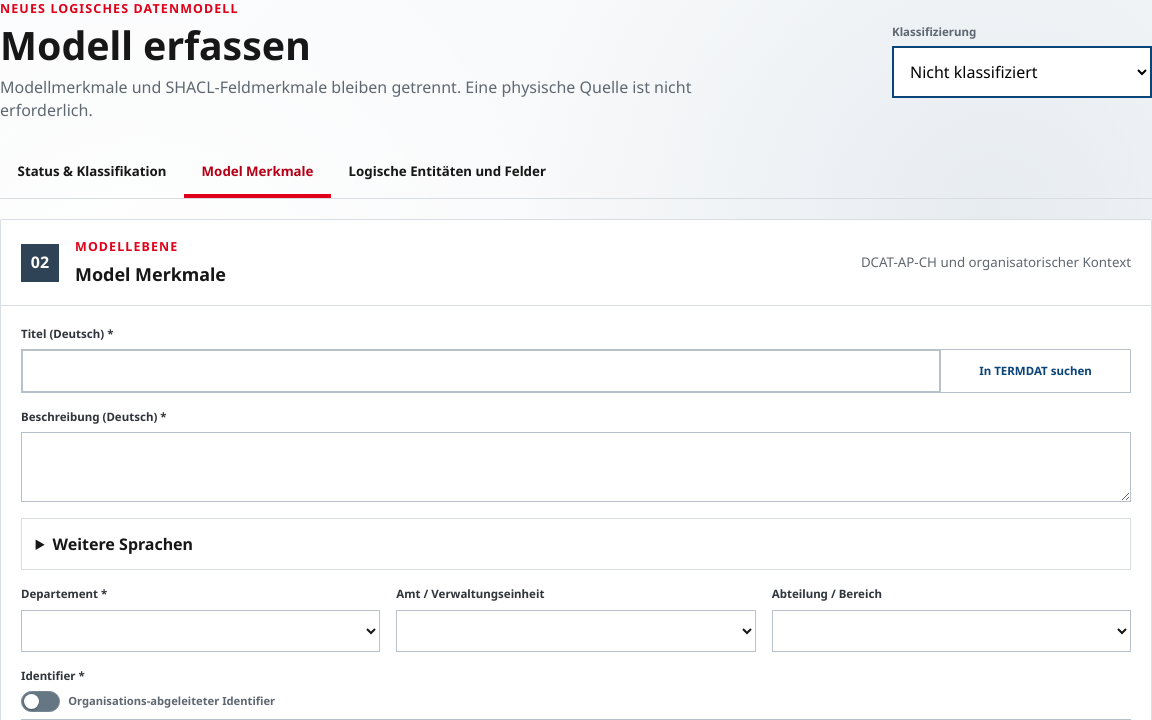
Scenario: LogicalModelEditorComponent contracts › searches TERMDAT on title blur and exposes a prominent hit action
Type "panzer" into the field named "titleDe" at (481, 371), box x1=22 y1=350 x2=940 y2=392
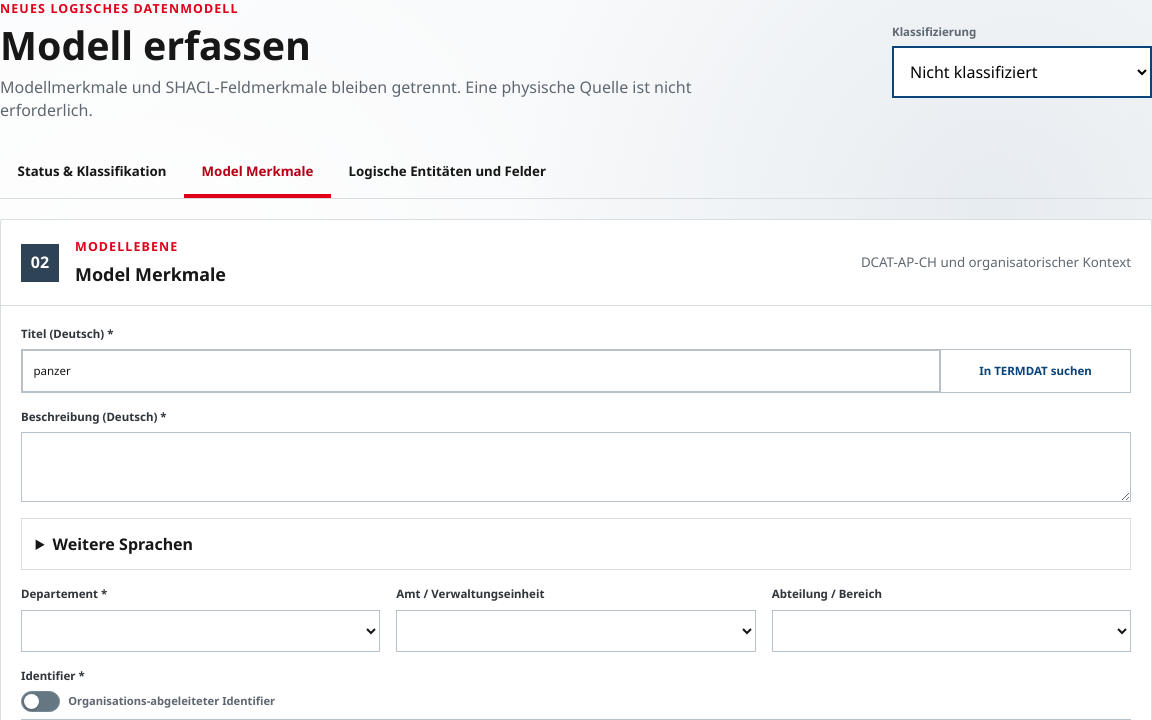
Leave the field named "titleDe", box x1=22 y1=350 x2=940 y2=392
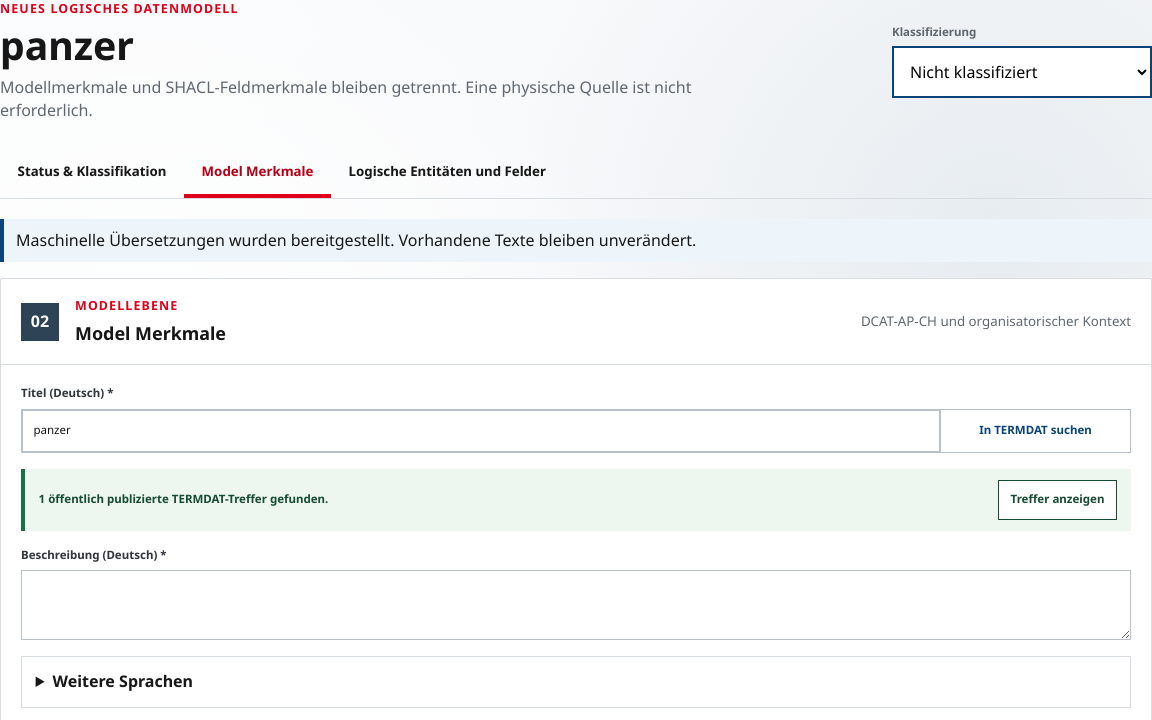
Expected: the text "1 öffentlich publizierte TERMDAT-Treffer gefunden." is shown, x1=39 y1=491 x2=328 y2=508
